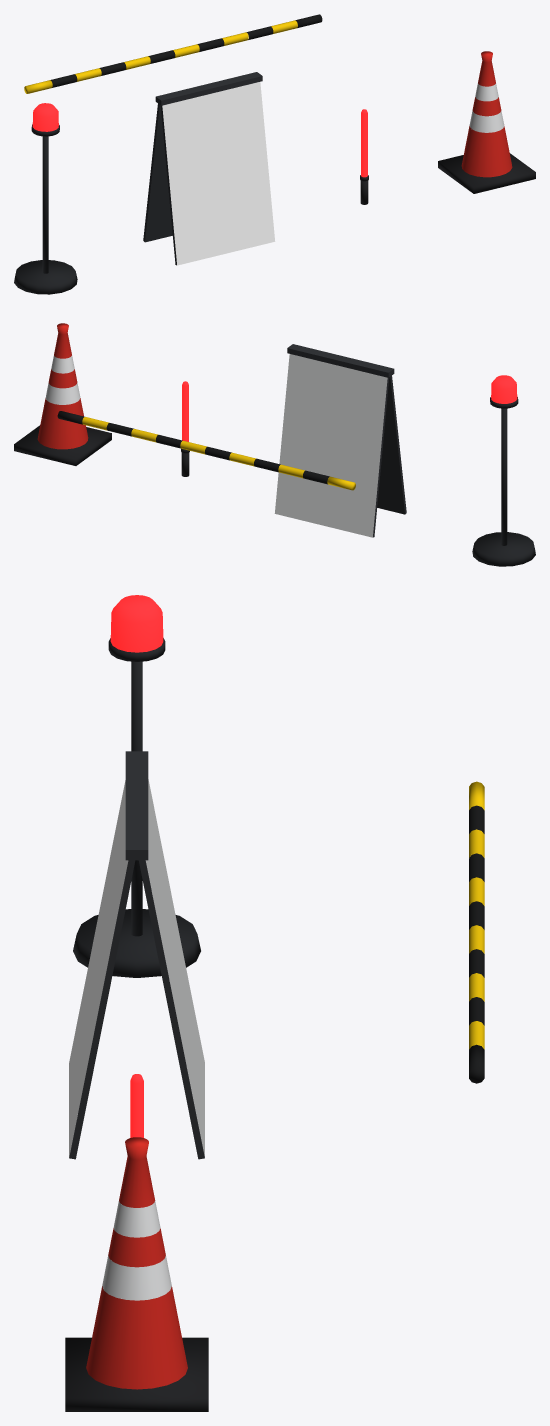
Rendered from checkpoint.glb.
The picture shows the model from 3 angles, top to bottom: view 1: azimuth 30°, elevation 25°; view 2: azimuth 150°, elevation 25°; view 3: azimuth 270°, elevation 25°; orthographic projection. The views are drawn at different scales.
Parts seen in each view (by area): view 1: Sign, Cone, Lamp, ConeBar, Baton; view 2: Sign, Cone, Lamp, ConeBar, Baton; view 3: Cone, Sign, Lamp, ConeBar.
Part boxes in pixels (<box>): Sign: <box>143,72,275,265</box>; Cone: <box>438,51,535,193</box>; Lamp: <box>14,103,77,294</box>; ConeBar: <box>24,14,322,93</box>; Baton: <box>360,109,368,204</box>; Sign: <box>274,344,406,537</box>; Cone: <box>14,323,111,465</box>; Lamp: <box>472,375,535,566</box>; ConeBar: <box>57,411,355,490</box>; Baton: <box>181,381,189,476</box>; Cone: <box>65,1137,208,1411</box>; Sign: <box>69,751,204,1159</box>; Lamp: <box>73,595,200,977</box>; ConeBar: <box>469,781,484,1083</box>.
Size of the model in its own units: 3.06 by 1.02 by 1.11.
